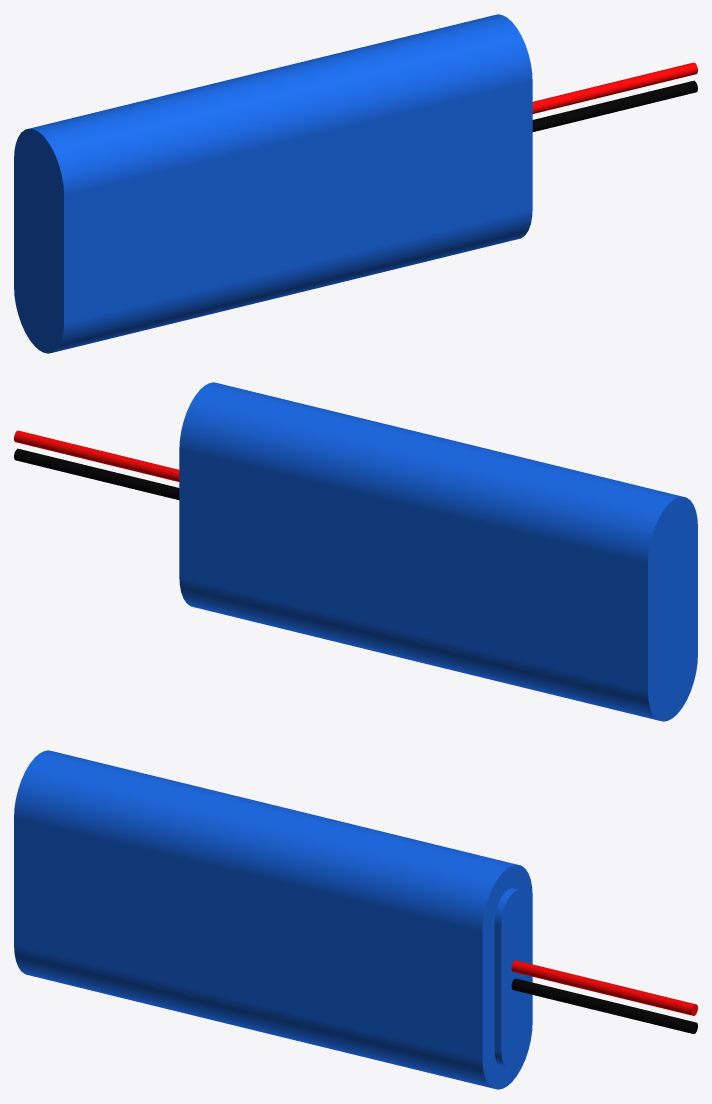
Rendered from LiPo 7.4V.fbx.
The picture shows the model from 3 angles, top to bottom: view 1: azimuth 30°, elevation 25°; view 2: azimuth 150°, elevation 25°; view 3: azimuth 330°, elevation 25°; orthographic projection.
Parts seen in each view (by area): view 1: Body1, Body3, Body2; view 2: Body1, Body2, Body3; view 3: Body1, Body2, Body3.
Boxes of the visible parts, x1,y1,x2,y2 form: Body1: (14, 14, 532, 353); Body3: (532, 80, 697, 131); Body2: (532, 62, 697, 113); Body1: (179, 382, 697, 721); Body2: (14, 430, 179, 481); Body3: (14, 448, 179, 499); Body1: (14, 750, 532, 1089); Body2: (511, 960, 697, 1015); Body3: (511, 978, 697, 1033).
Size of the model in its own units: 189 by 60 by 25.
